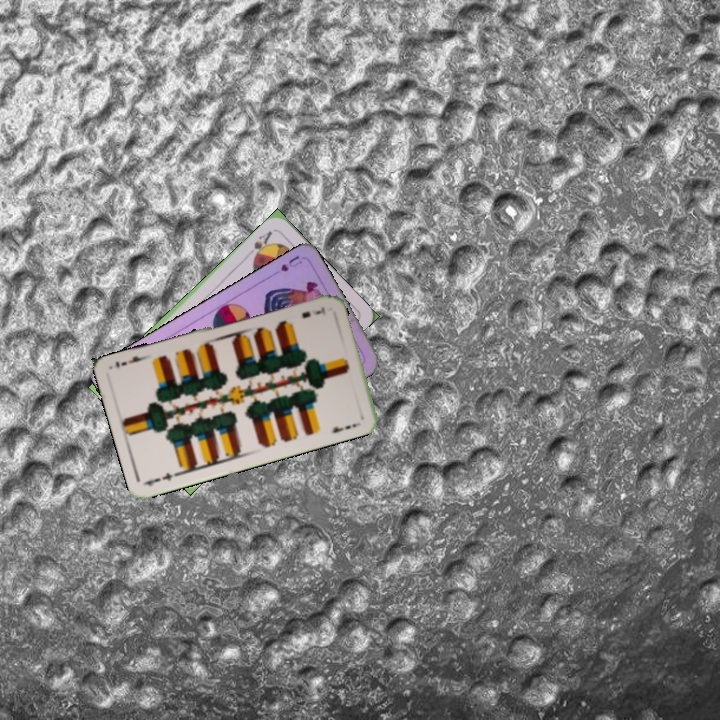E7: (142, 469, 182, 489), (297, 303, 328, 321)
SA: (249, 226, 275, 262)
SU: (266, 251, 305, 279)
